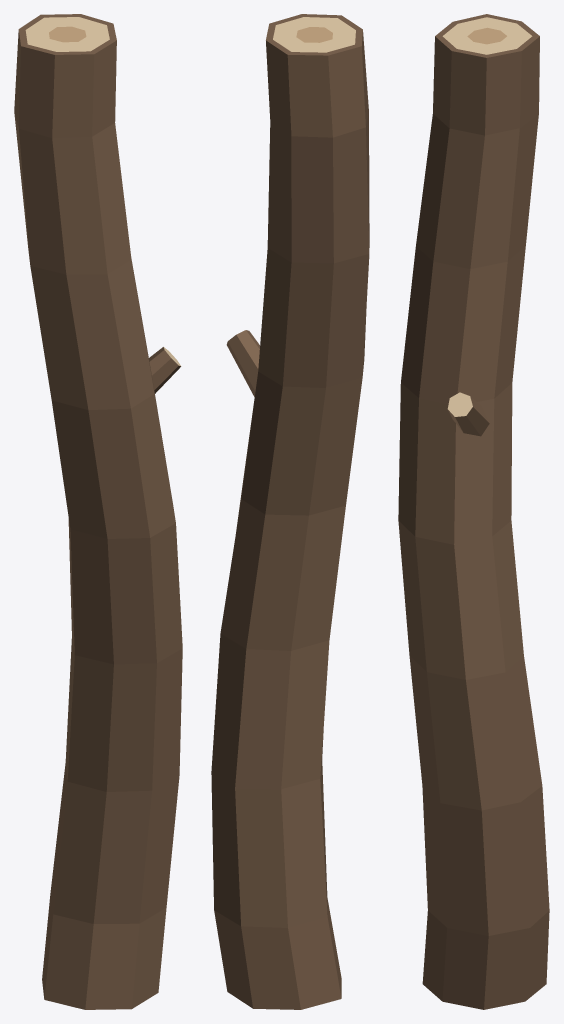
File: stick.glb
3 views of the same model, side by side, from view 1: azimuth 30°, elevation 25°; view 2: azimuth 150°, elevation 25°; view 3: azimuth 270°, elevation 25° (orthographic). The views are drawn at different scales.
Visible parts, largest first — view 1: Stick; view 2: Stick; view 3: Stick.
Part boxes in pixels (x1,y1,x2,y2): Stick: [14, 14, 182, 1009]; Stick: [211, 14, 369, 1009]; Stick: [398, 14, 549, 1009].
Size of the model in its own units: 0.0776 by 0.463 by 0.068.
